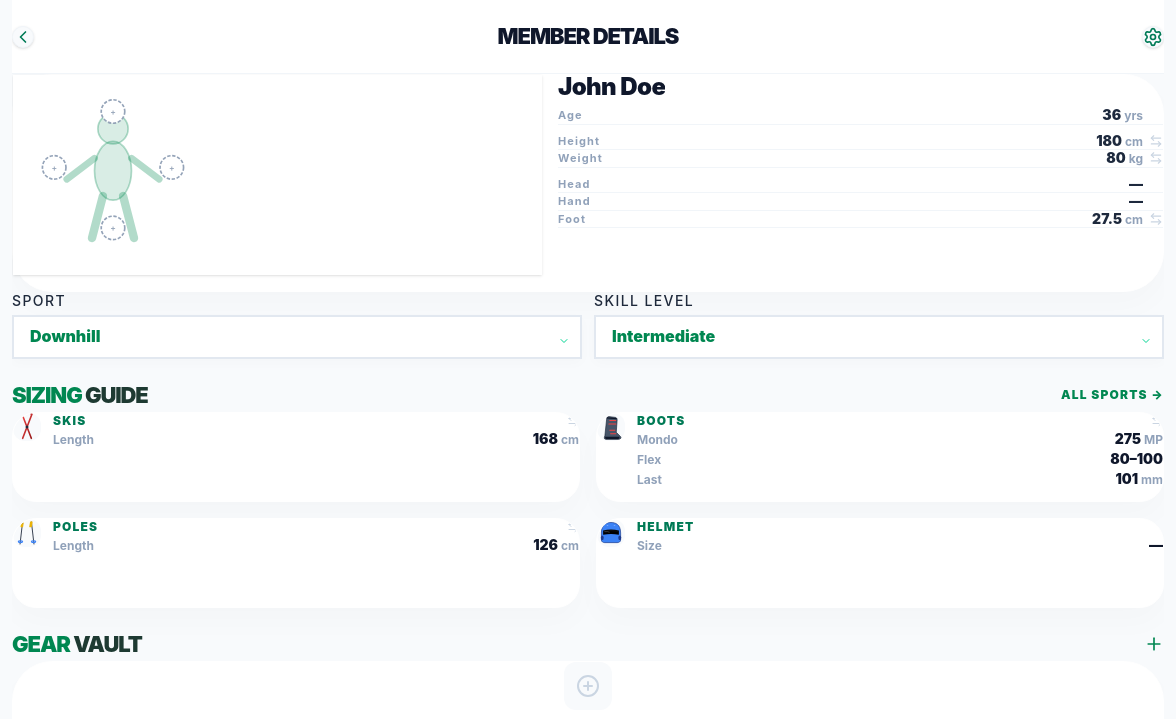
Test case: MemberDetail › sizing cards › shows Hockey cards when hockey is selected
Select "Hockey" in the 1st dropdown at (297, 337), box [12,315,582,359]
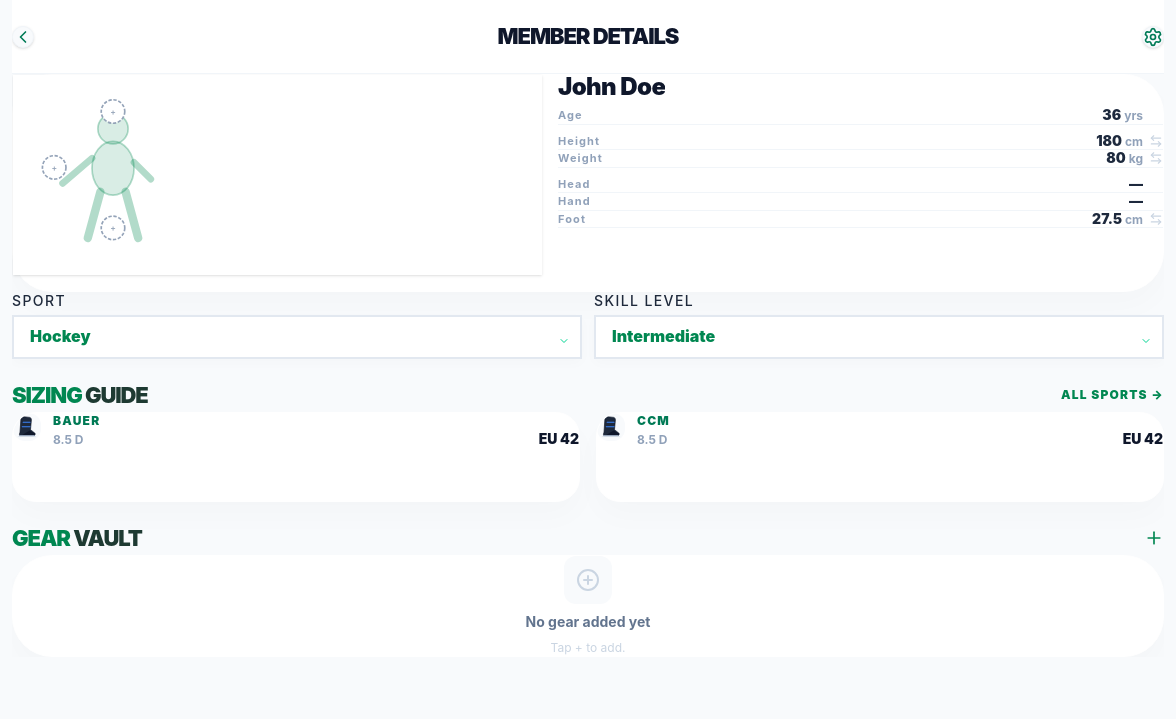
Expected: the text "Bauer" is shown, [53,413,100,429]
Expected: the text "CCM" is shown, [637,413,670,429]
